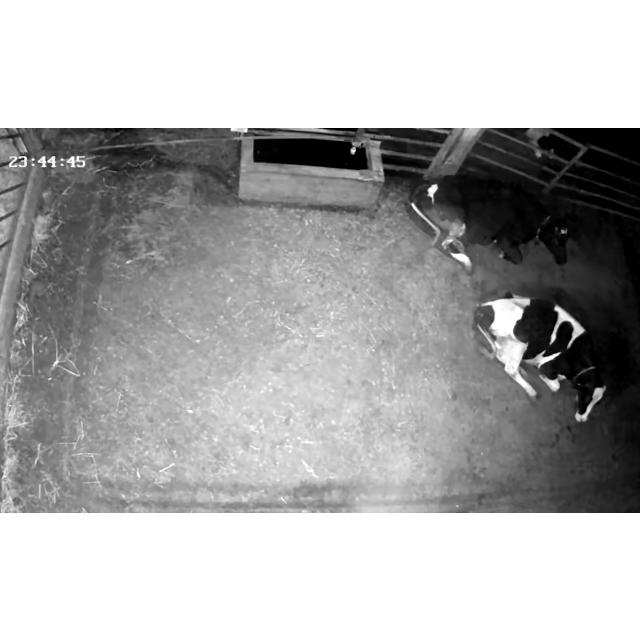lay: (466, 286, 612, 429), (406, 167, 580, 281)
